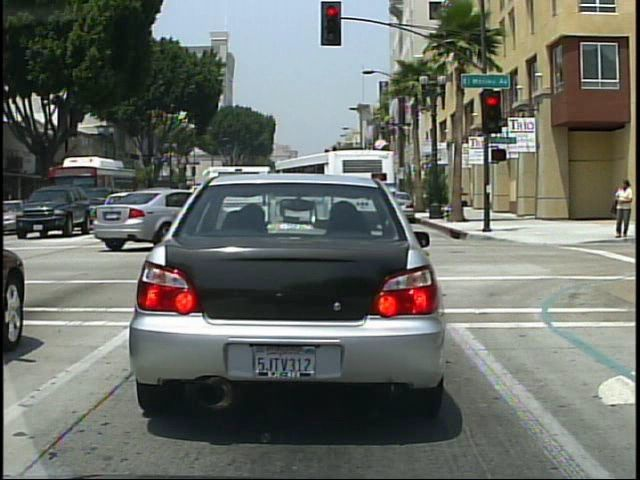person: (612, 179, 635, 241), (458, 182, 468, 224)
